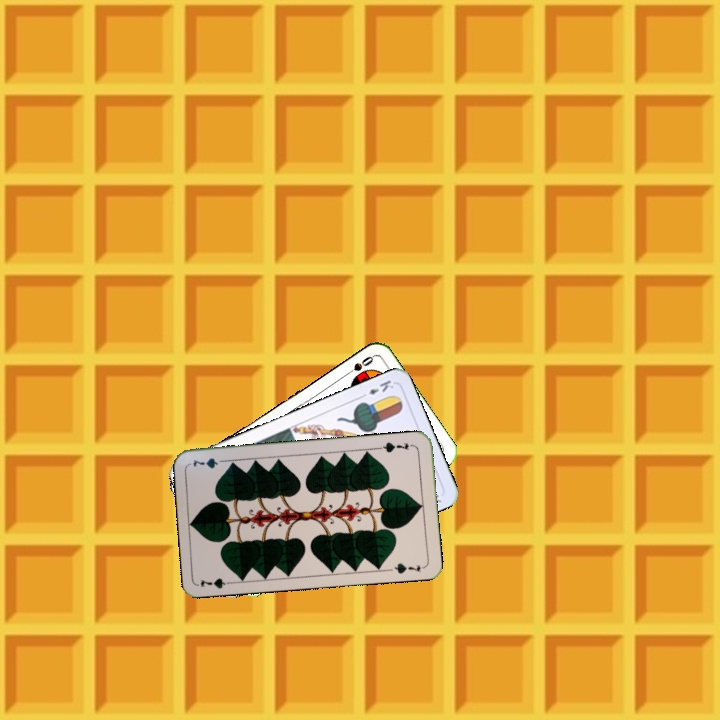EK: (356, 376, 396, 401)
G7: (197, 574, 238, 591), (376, 438, 416, 455)
SO: (340, 352, 376, 379)
